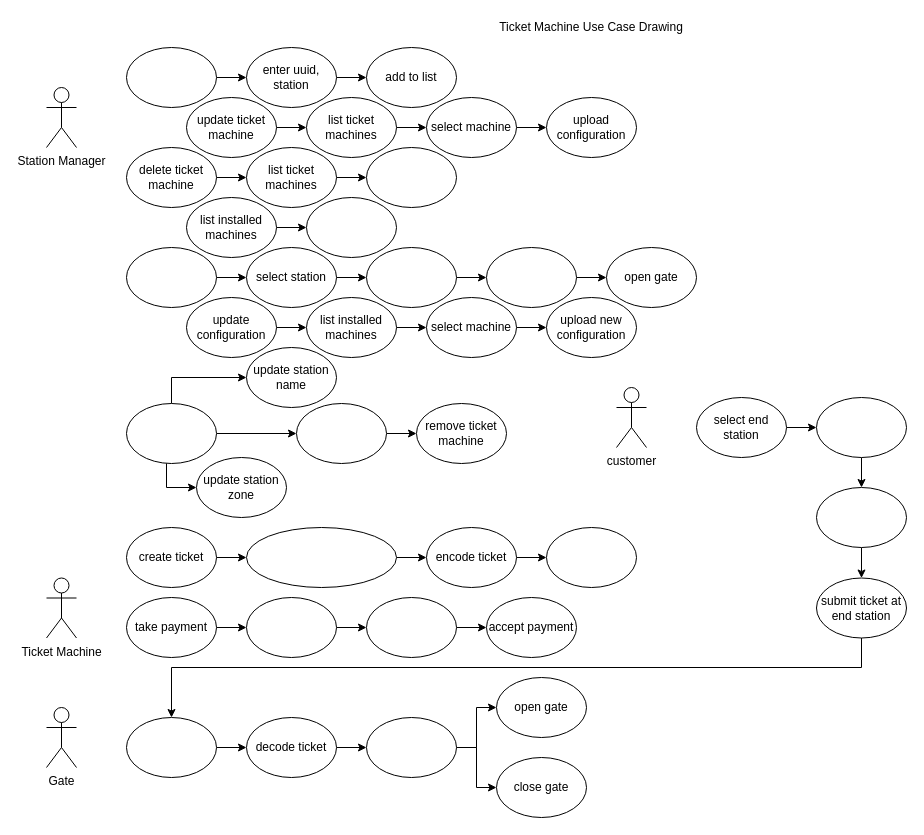
Some shapes in this 924 by 835 pixel diagram are drawn without their labels. The shapes that lost their labels are listed below. From the top down, each one's centre as x and y in pixels, then its label:
At point (171, 77): "create ticket machine".
At point (411, 177): "select and remove machine".
At point (351, 227): "list all machines".
At point (171, 277): "get ticket data".
At point (411, 277): "select gate".
At point (531, 277): "validate ticket".
At point (171, 433): "create station".
At point (341, 433): "add ticket machine".
At point (861, 427): "pay for ticket".
At point (861, 517): "receive ticket (XML)".
At point (321, 557): "enter start station, start zone, time issued, end station, end zone".
At point (591, 557): "display ticket XML".
At point (291, 627): "enter credit card".
At point (411, 627): "validate card".
At point (171, 747): "receive ticket data".
At point (411, 747): "verify ticket".
